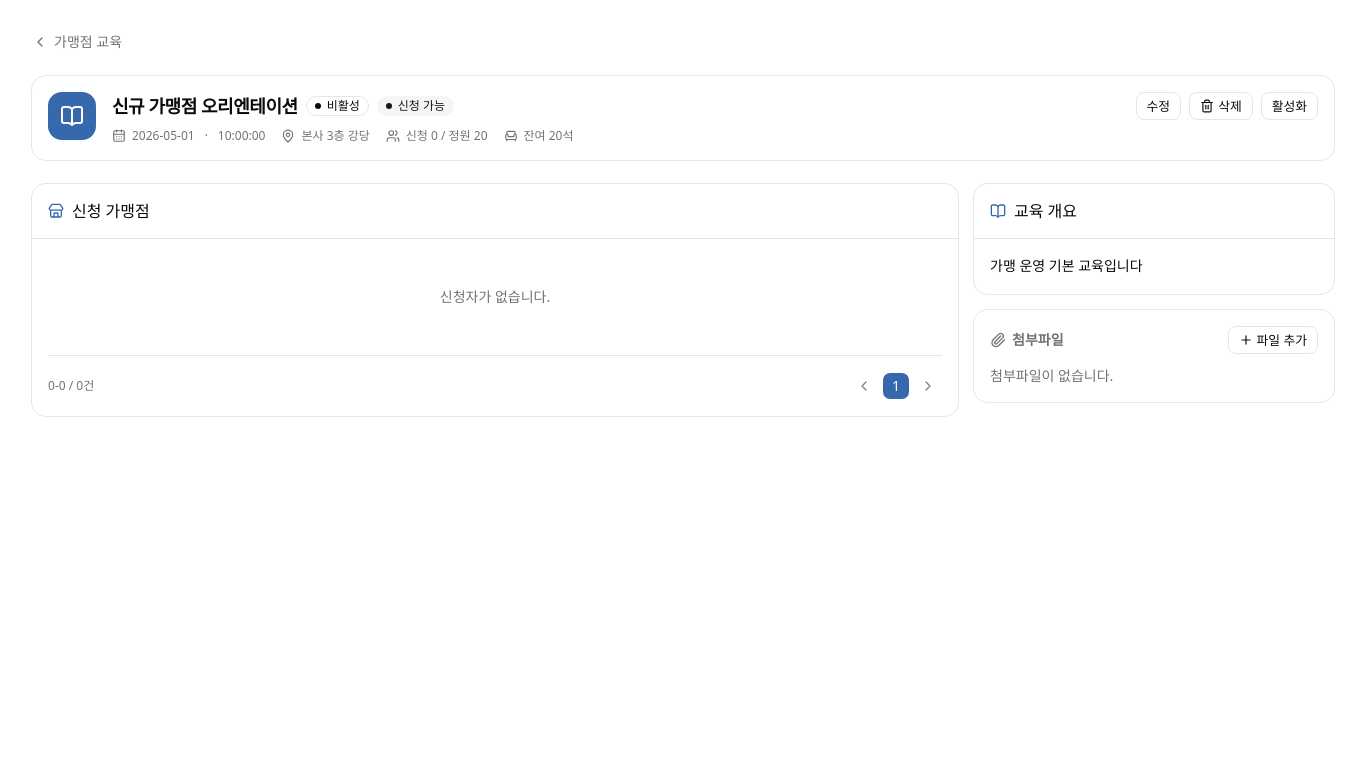
Test case: FranchiseEducationDetailPage - 수정 다이얼로그 연동 › "수정" 클릭 시 FranchiseEducationUpdateDialog가 열리고 현재 값으로 프리필된다
Click the button "수정": (1158, 106) [1136, 92, 1181, 120]
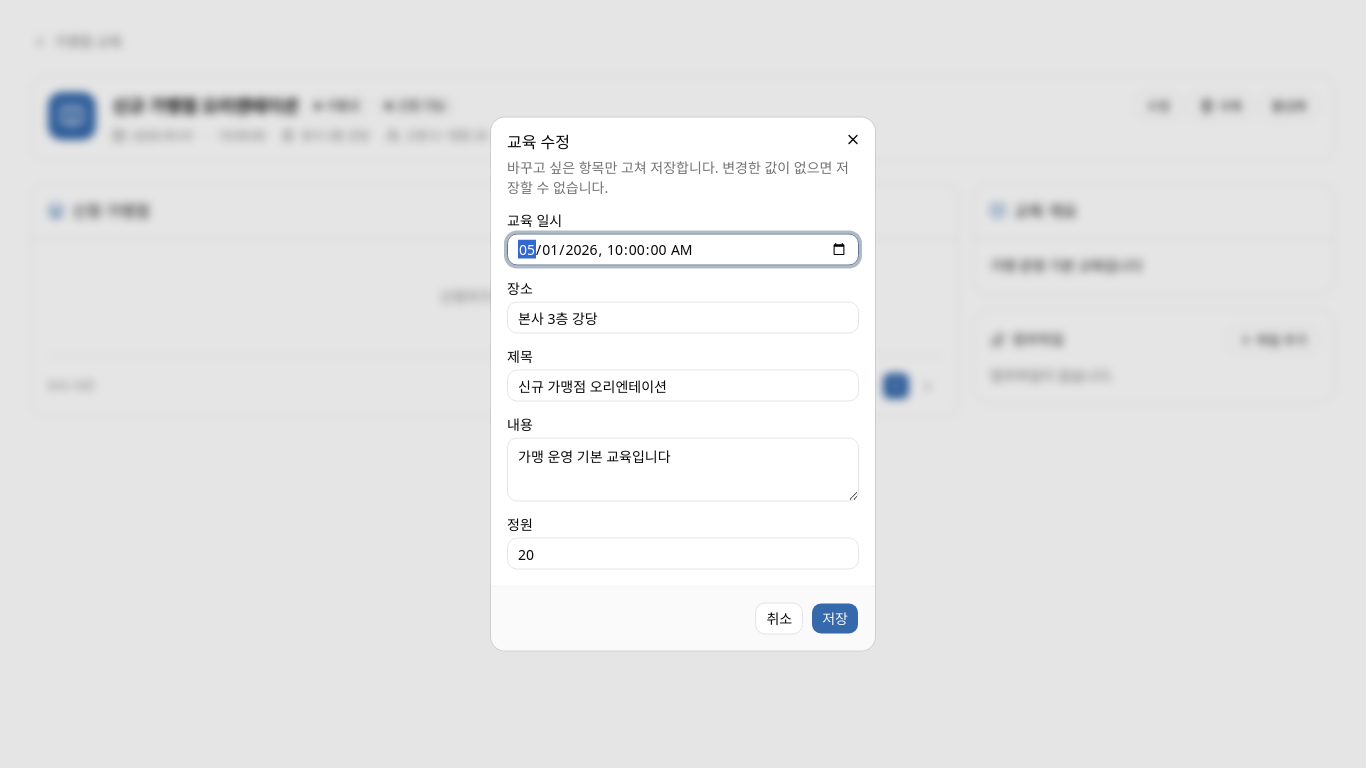
Expected: the heading "교육 수정" is shown, [507, 130, 570, 152]
Expected: the field labelled "장소" holds "본사 3층 강당", [507, 302, 859, 334]
Expected: the field labelled "교육 일시" holds "2026-05-01T10:00", [507, 234, 859, 266]
